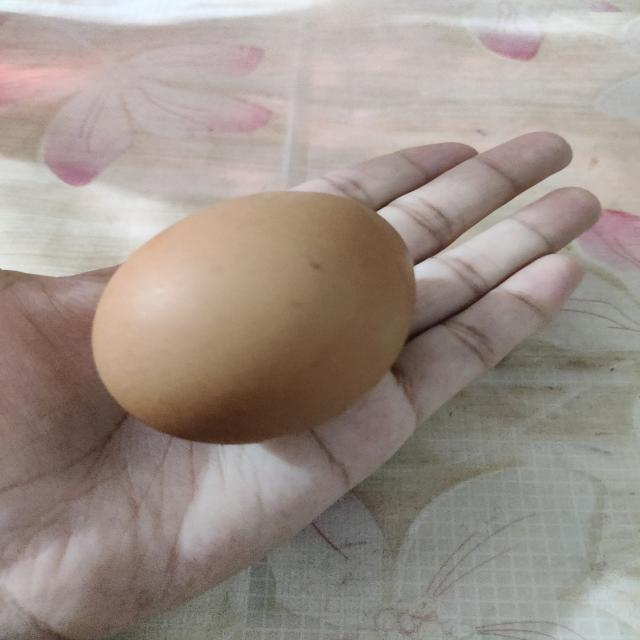egg: (88, 182, 422, 444)
